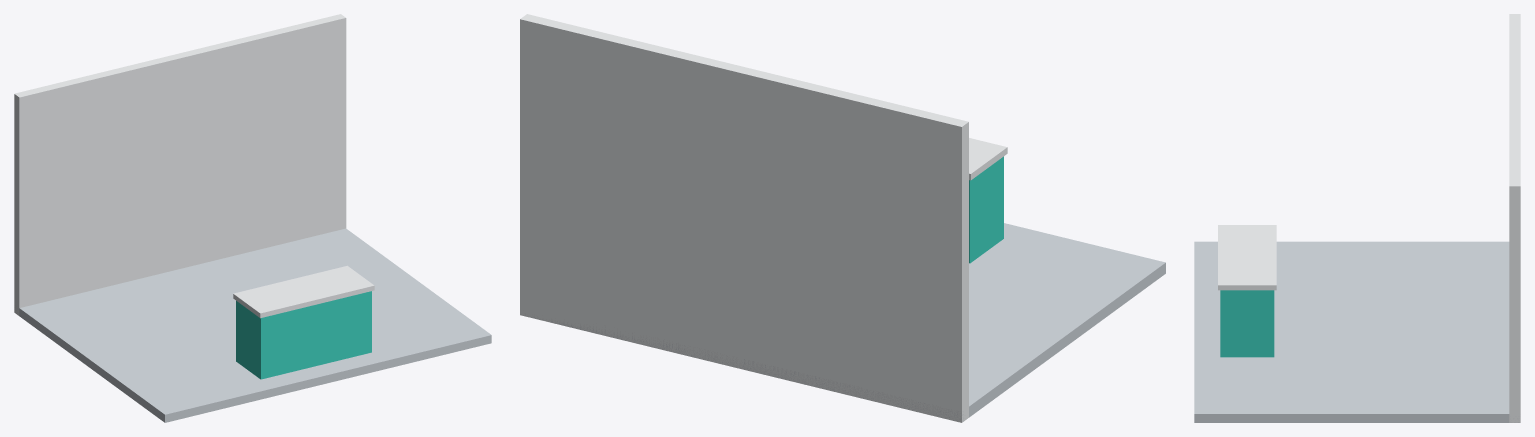
The picture shows the model from 3 angles, left to right: view 1: azimuth 30°, elevation 25°; view 2: azimuth 150°, elevation 25°; view 3: azimuth 270°, elevation 25°; orthographic projection. The views are drawn at different scales.
Visible parts, largest first — view 1: Exhibition Booth Concept; view 2: Exhibition Booth Concept; view 3: Exhibition Booth Concept.
Boxes of the visible parts, bbox=[...] form: Exhibition Booth Concept: bbox=[14, 14, 491, 422]; Exhibition Booth Concept: bbox=[520, 14, 1165, 422]; Exhibition Booth Concept: bbox=[1194, 14, 1520, 422].
Bounding box in the file's own units: 5 × 3.2 × 4.
